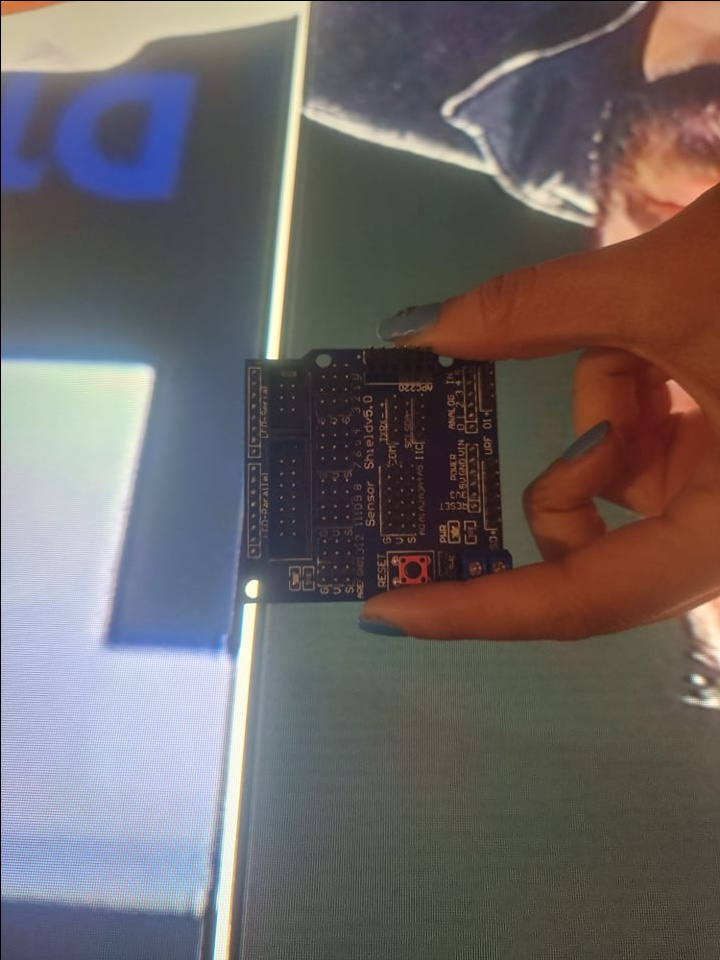5V EXPANSION: (238, 343, 524, 610)
